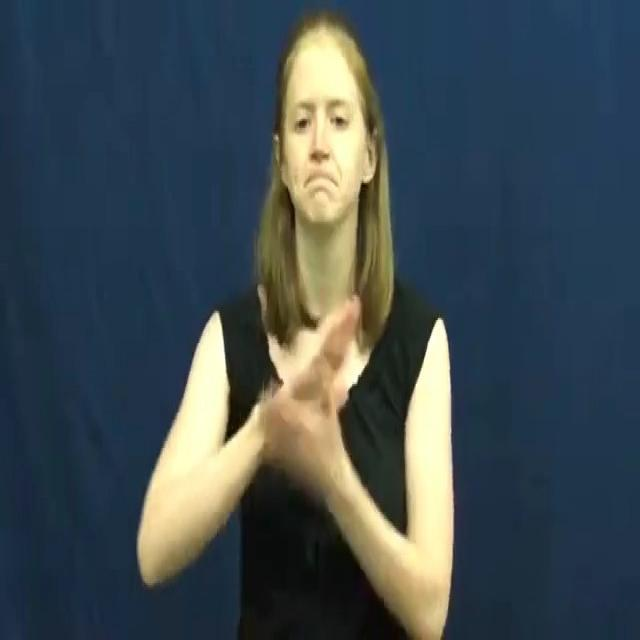fresh: (248, 280, 383, 544)
